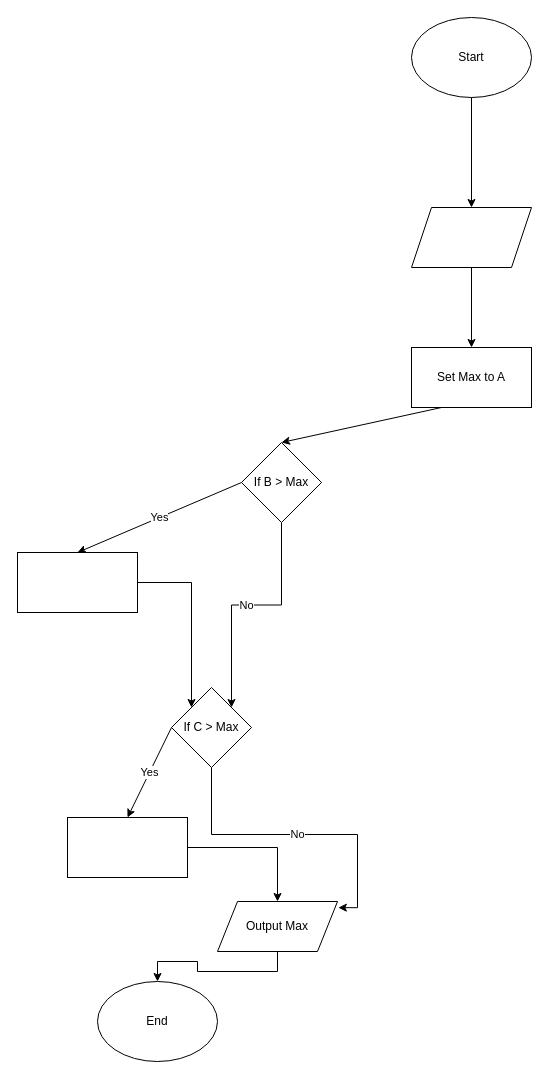
The diagram is 549 pixels wide and 1079 high, and some of its shapes have lost their labels. The centre of each missing label's shape, as x and y in pixels:
"Input A, B, C" goes at point (471, 237).
"Set Max to B" goes at point (77, 582).
"Set Max to C" goes at point (127, 847).
